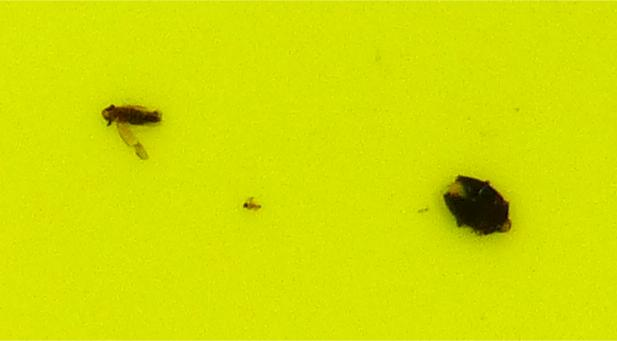Brachycera: (238, 198, 262, 213)
Coleoptera: (435, 170, 517, 241)
Hemiptera: (100, 100, 166, 160)
